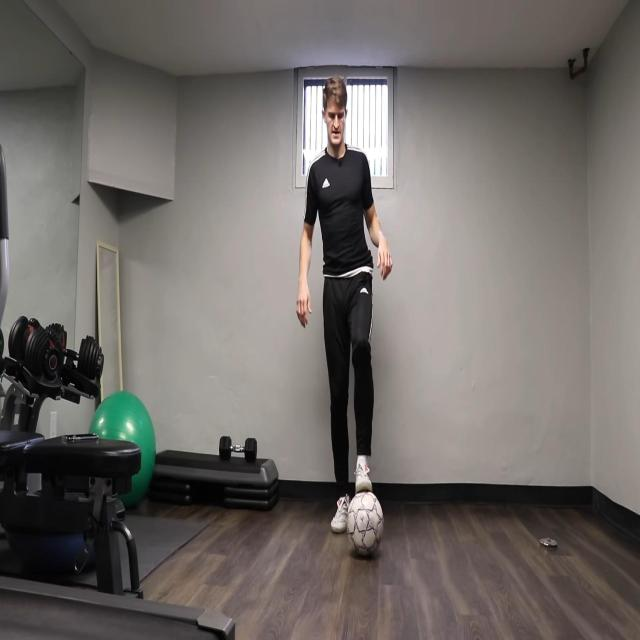Soccer Ball: (347, 491, 384, 556)
